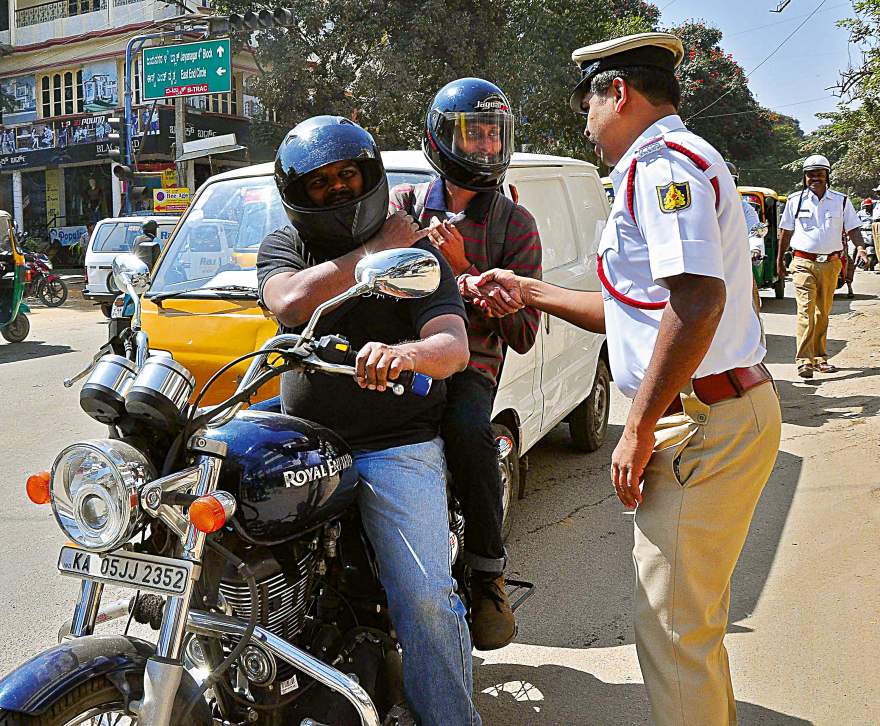helmet: (268, 115, 392, 229), (423, 76, 512, 181)
